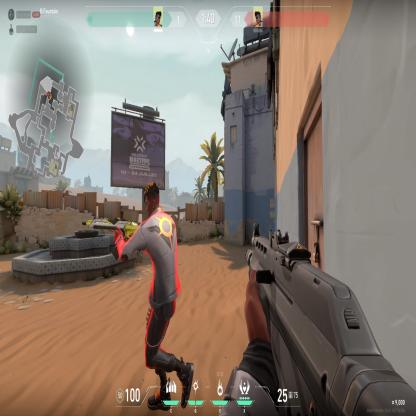enemy: (111, 180, 198, 385)
